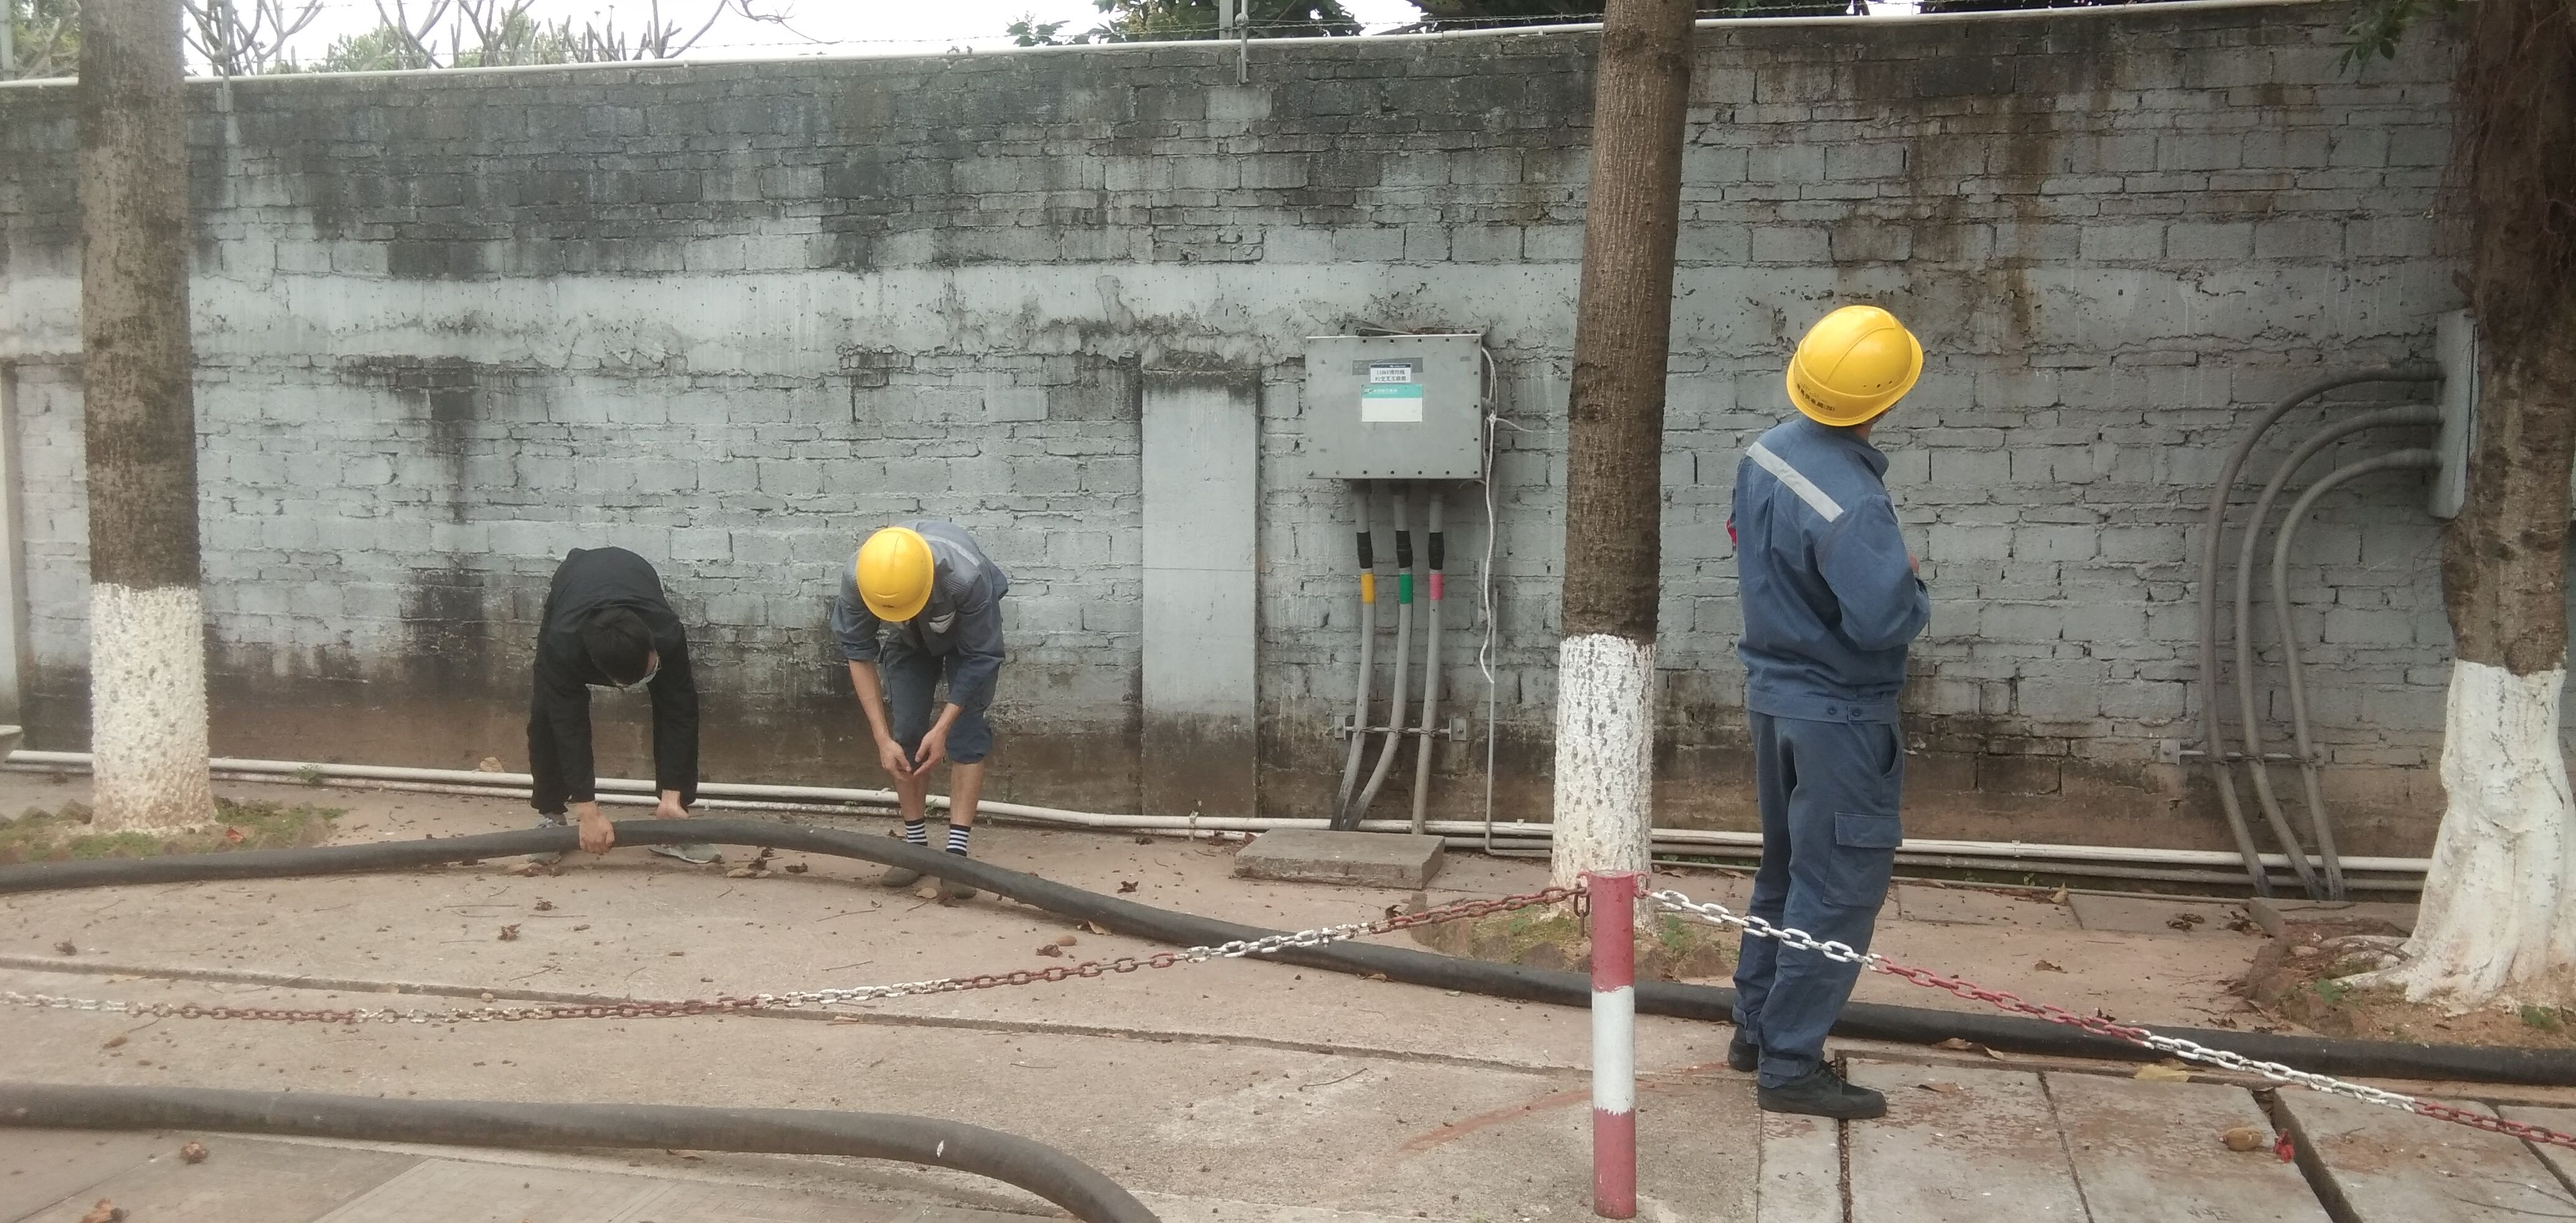downsuit: (1727, 735, 1911, 1070)
upcloth: (544, 550, 680, 685)
upsuit: (1720, 419, 1937, 709)
wrongtop: (846, 637, 910, 778)
